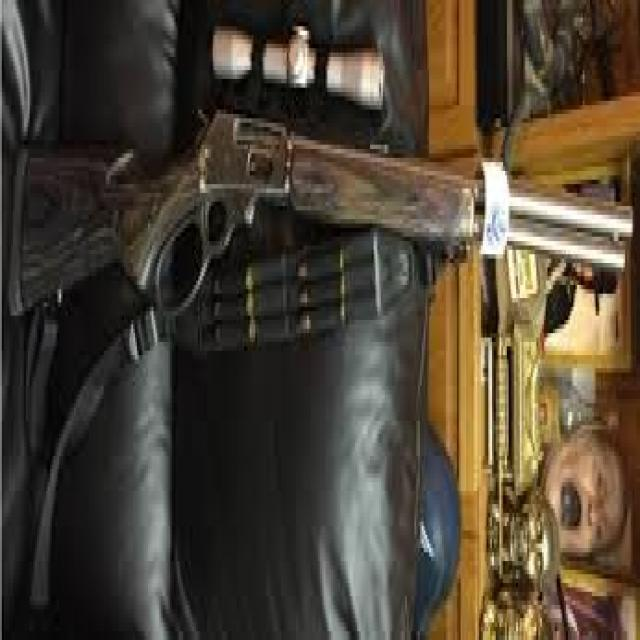weapon: (5, 116, 637, 327)
